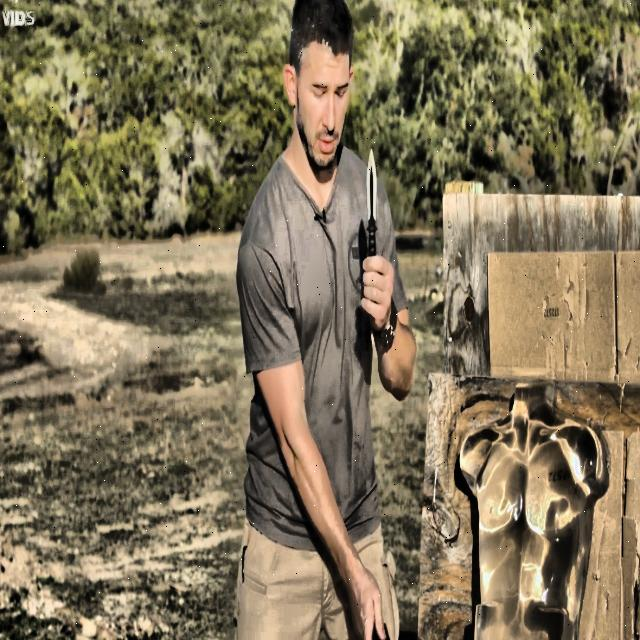knife: (366, 152, 378, 257)
